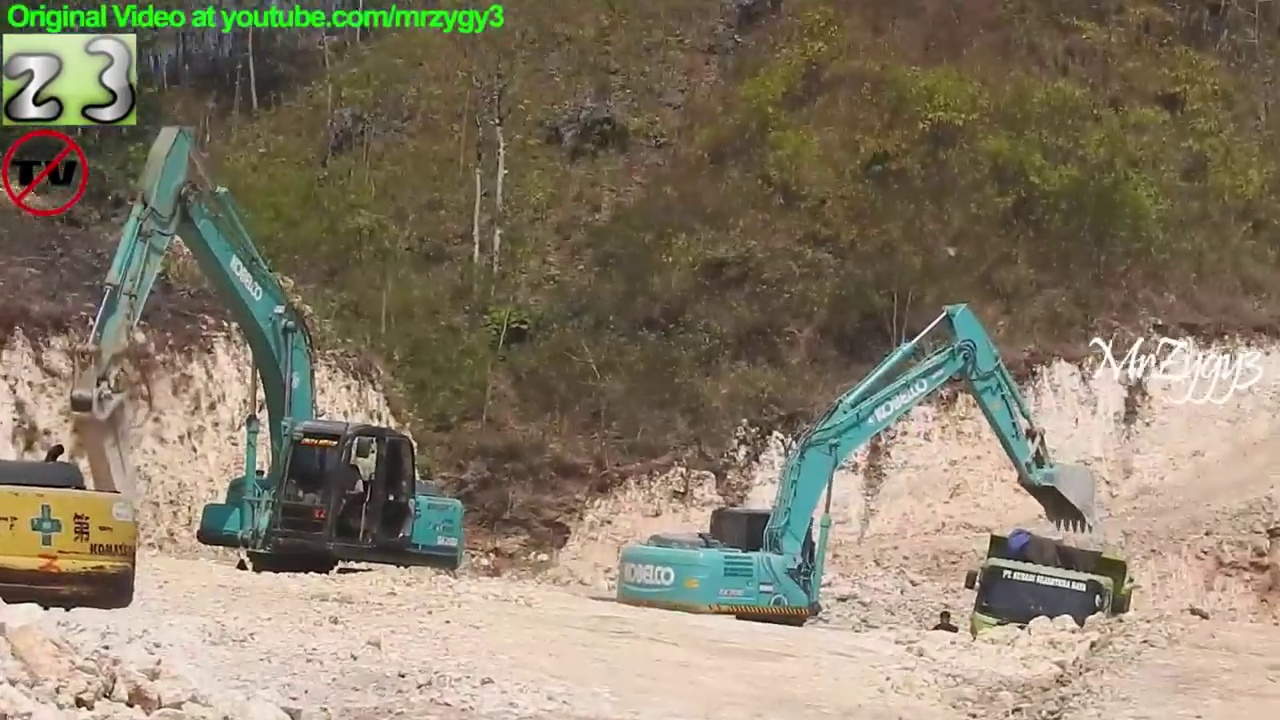excavator: (61, 119, 475, 595), (610, 298, 1106, 657), (1, 443, 148, 617)
truck: (961, 523, 1140, 693)
